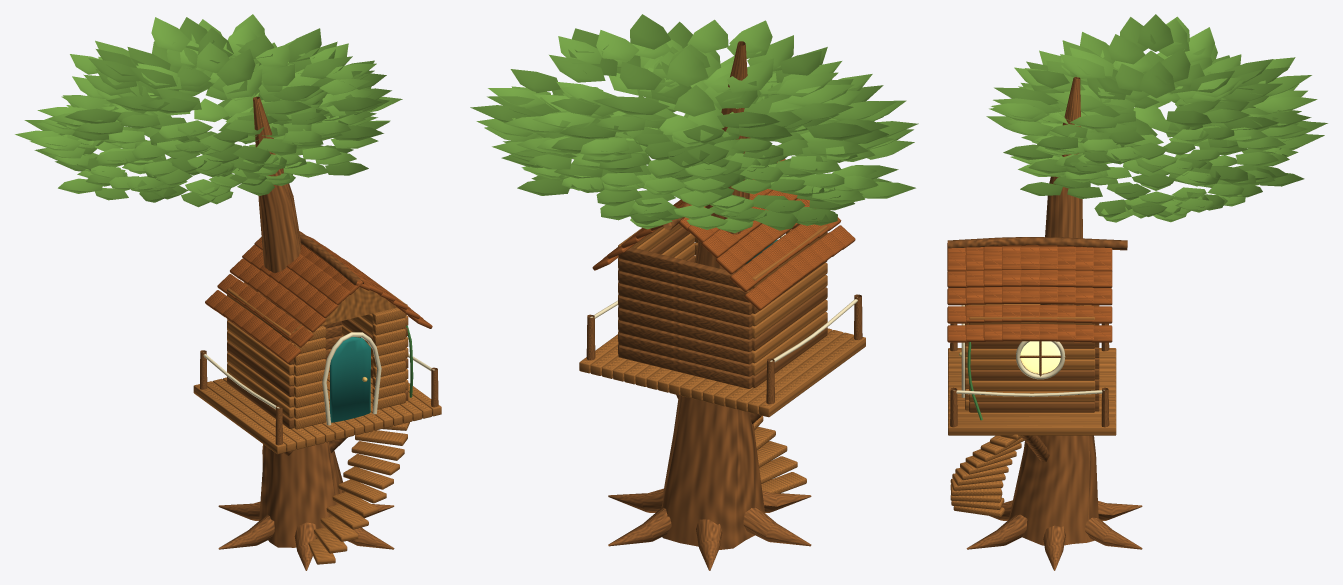
Rendered from treehouse.glb.
3 renders of one model, left to right at view 1: azimuth 30°, elevation 25°; view 2: azimuth 150°, elevation 25°; view 3: azimuth 270°, elevation 25°, orthographic. The views are drawn at different scales.
Parts seen in each view (by area): view 1: Treehouse crown, Ancient trunk, Arched door, Deck plank, Timber gable, Door frame, House roots.003, Deck plank.001, Deck plank.002, Side weatherboard.004, Side weatherboard.003, Side weatherboard.002 (+13 smaller); view 2: Treehouse crown, Ancient trunk, Deck plank, Rear siding.001, Rear siding.004, Rear siding, Rear siding.002, Rear siding.005, Rear siding.003, Rear siding.006, Rear siding.008, Rear siding.007 (+15 smaller); view 3: Treehouse crown, Ancient trunk, Deck plank.016, Roof ridge, Side weatherboard.011, Side weatherboard.009, Side weatherboard.012, Side weatherboard.010, Window glow, House roots.005, Side weatherboard.014, Side weatherboard.013 (+10 smaller).
Part boxes in pixels (x1,y1,x2,y2): Treehouse crown: (15,14,402,207); Ancient trunk: (253,96,344,547); Arched door: (330,337,370,422); Deck plank: (193,384,286,454); Timber gable: (292,288,407,332); Door frame: (322,332,381,425); House roots.003: (218,514,274,549); Deck plank.001: (207,381,295,451); Deck plank.002: (213,378,305,449); Side weatherboard.004: (227,331,293,386); Side weatherboard.003: (227,342,293,396); Side weatherboard.002: (227,352,293,407); Treehouse crown: (470,14,918,233); Ancient trunk: (661,41,764,549); Deck plank: (759,337,865,417); Rear siding.001: (618,333,752,376); Rear siding.004: (618,296,752,339); Rear siding: (618,345,752,388); Rear siding.002: (618,320,752,364); Rear siding.005: (618,283,752,327); Rear siding.003: (618,308,752,351); Rear siding.006: (618,271,752,314); Rear siding.008: (618,247,752,290); Rear siding.007: (618,259,751,302); Treehouse crown: (986,14,1327,222); Ancient trunk: (1009,77,1098,545); Deck plank.016: (948,424,1116,435); Roof ridge: (947,237,1127,250); Side weatherboard.011: (969,380,1095,391); Side weatherboard.009: (969,401,1095,412); Side weatherboard.012: (970,370,1095,380); Side weatherboard.010: (969,391,1095,401); Window glow: (1020,341,1060,373); House roots.005: (966,514,1027,549); Side weatherboard.014: (970,348,1095,359); Side weatherboard.013: (970,359,1095,369).
Bounding box in the file's own units: 6.89 × 8.6 × 6.79.
Materials: 10 (5 with a texture image).
